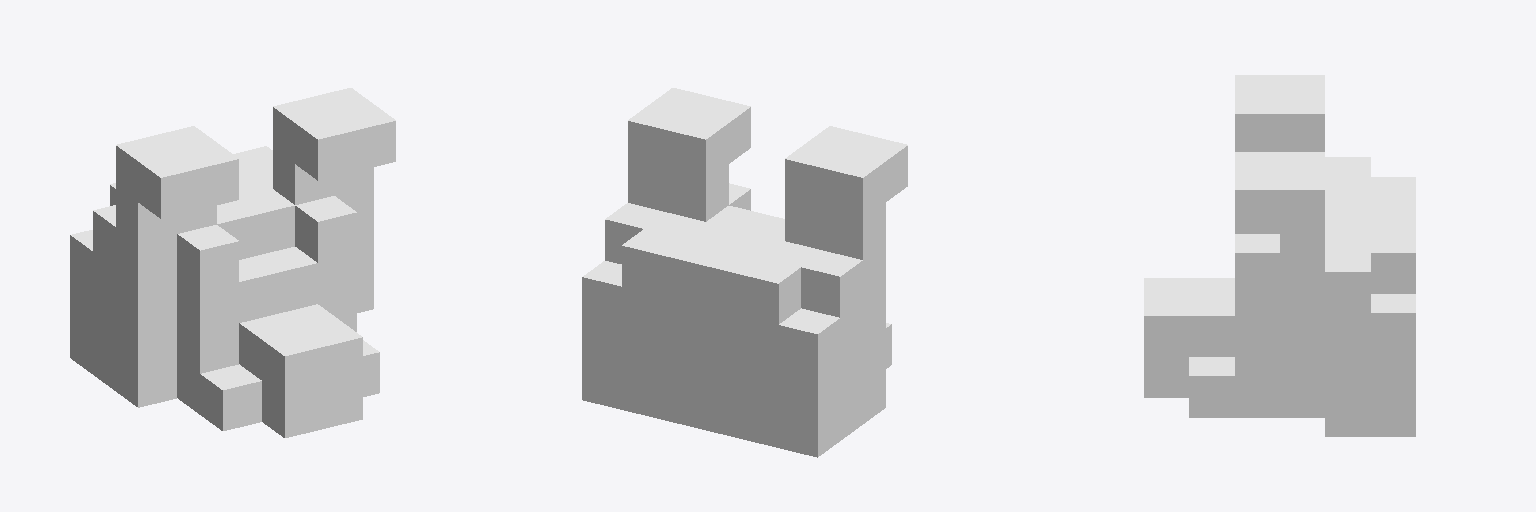
File: Mel-0.obj
3 renders of one model, left to right at view 1: azimuth 30°, elevation 25°; view 2: azimuth 150°, elevation 25°; view 3: azimuth 270°, elevation 25°, orthographic.
Parts seen in each view (by area): view 1: object 1; view 2: object 1; view 3: object 1.
Boxes of the visible parts, x1=… form: object 1: x1=70, y1=88, x2=395, y2=437; object 1: x1=582, y1=88, x2=907, y2=457; object 1: x1=1144, y1=75, x2=1415, y2=436.
Size of the model in its own units: 0.6 by 0.6 by 0.6.